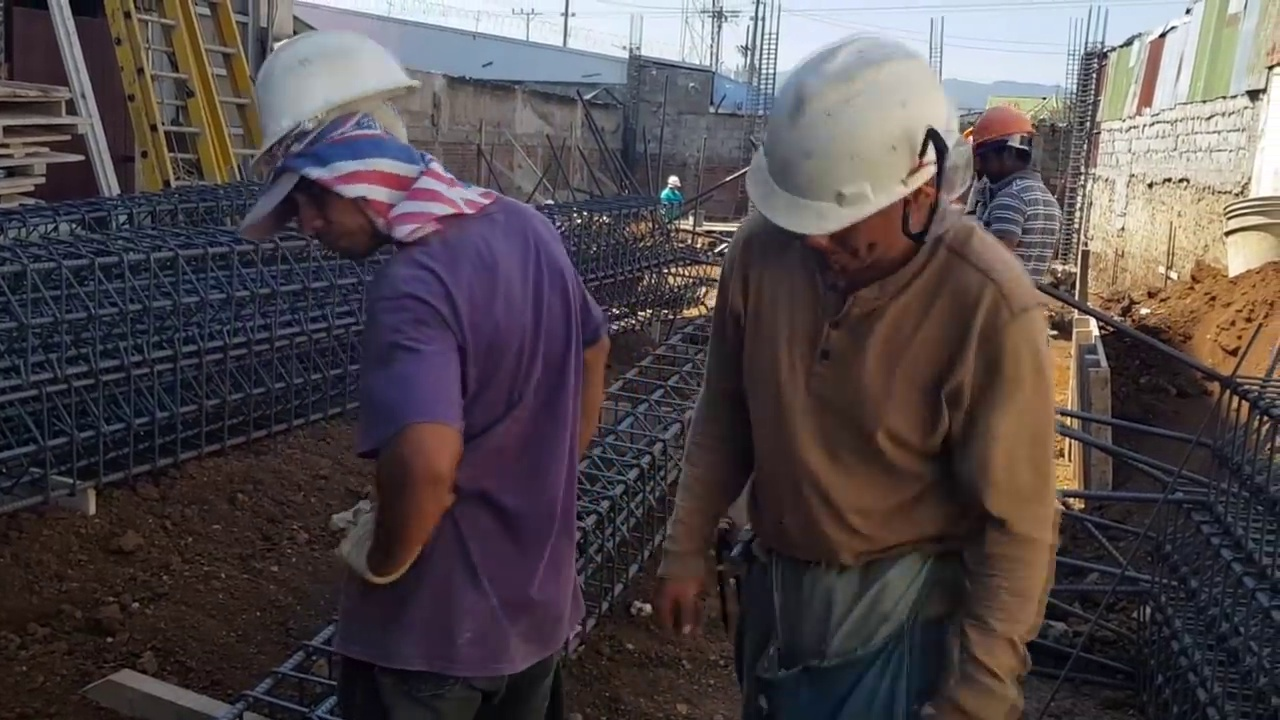helmet: (248, 37, 413, 153), (970, 102, 1041, 148), (667, 176, 681, 187)
helmet-on: (749, 42, 979, 289), (246, 24, 456, 278), (969, 100, 1044, 195), (665, 175, 682, 192)
person: (649, 42, 1060, 717), (243, 20, 604, 711), (960, 98, 1067, 292), (660, 175, 684, 221)
